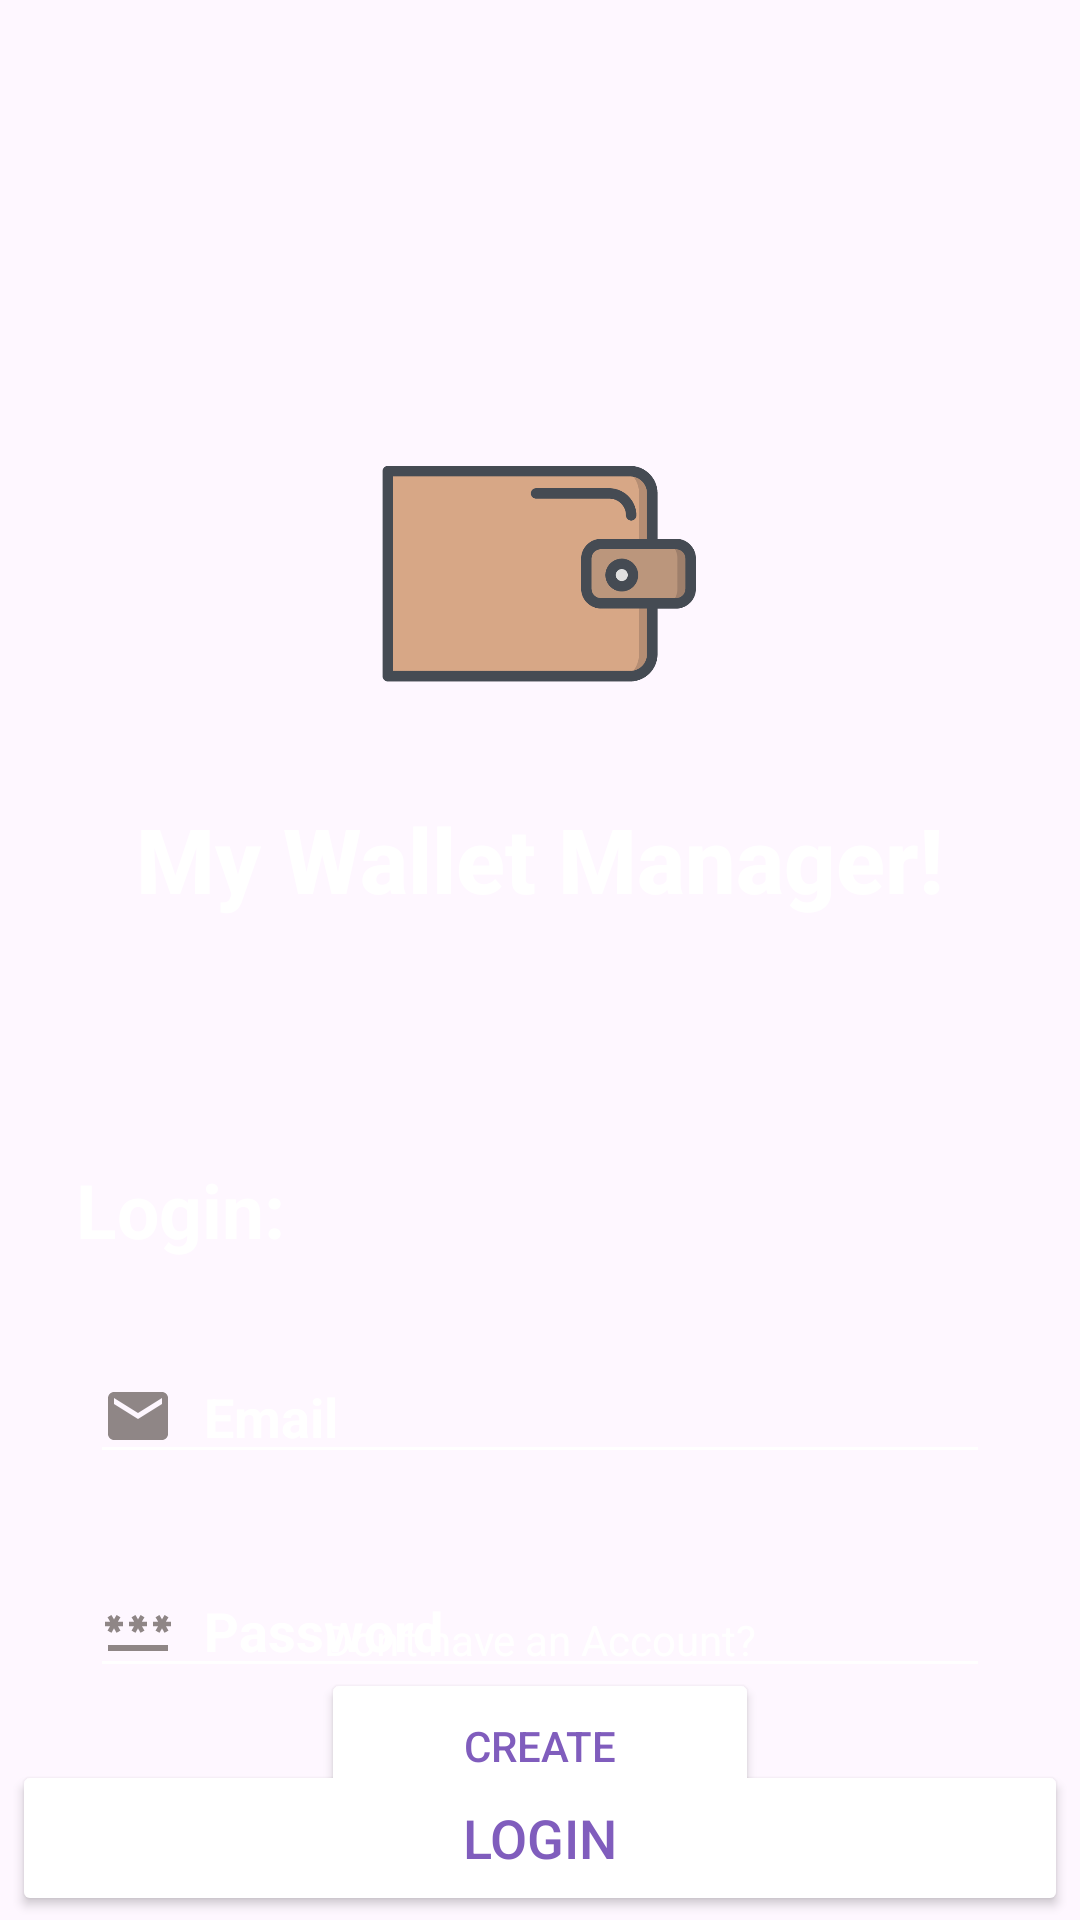

Named icons in this screenshot (1080px×1920px) and their centers, (x,y):
appicon: (539,574)
